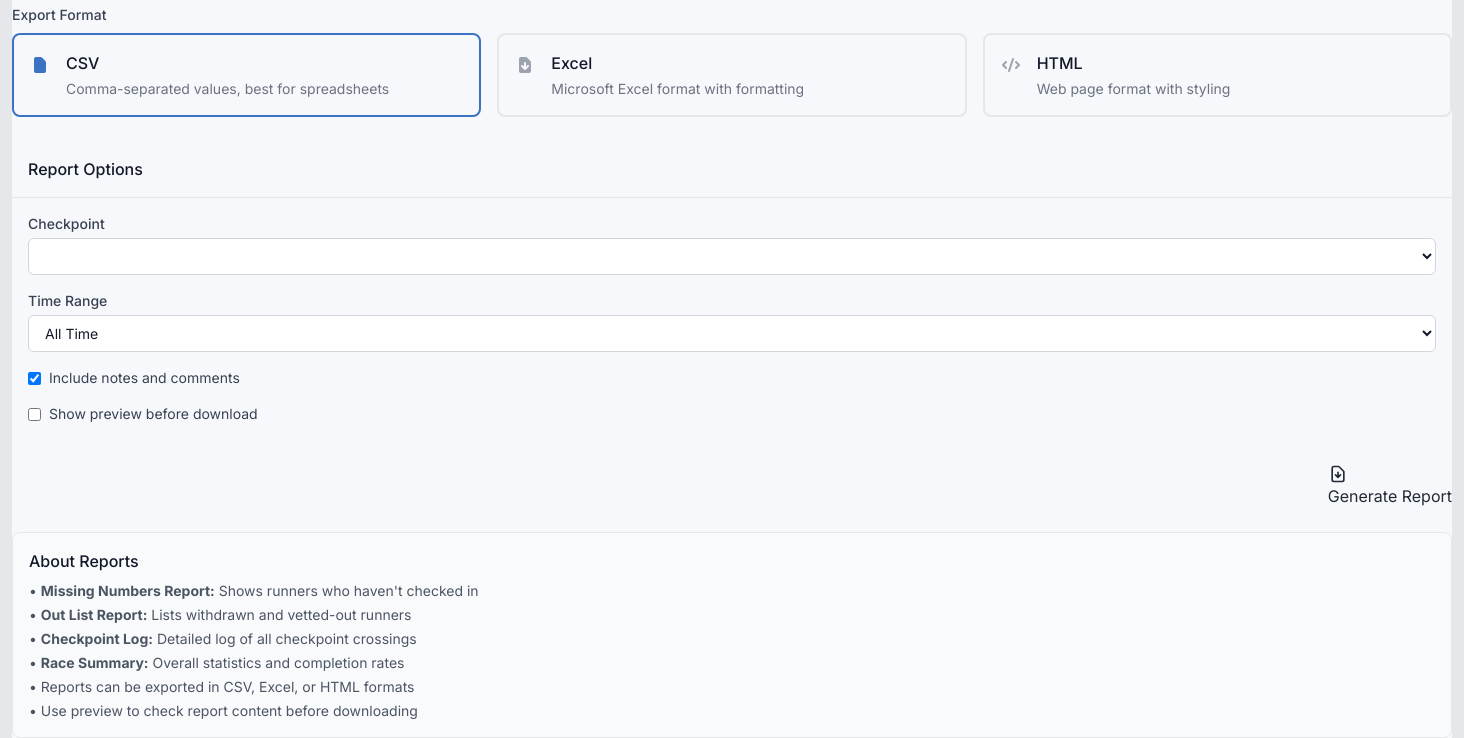
Test case: ReportsPanel › handles loading state
(page scrolled)
Click the button "Generate Report" at (1390, 486), box [1328,464,1452,508]
(page scrolled)
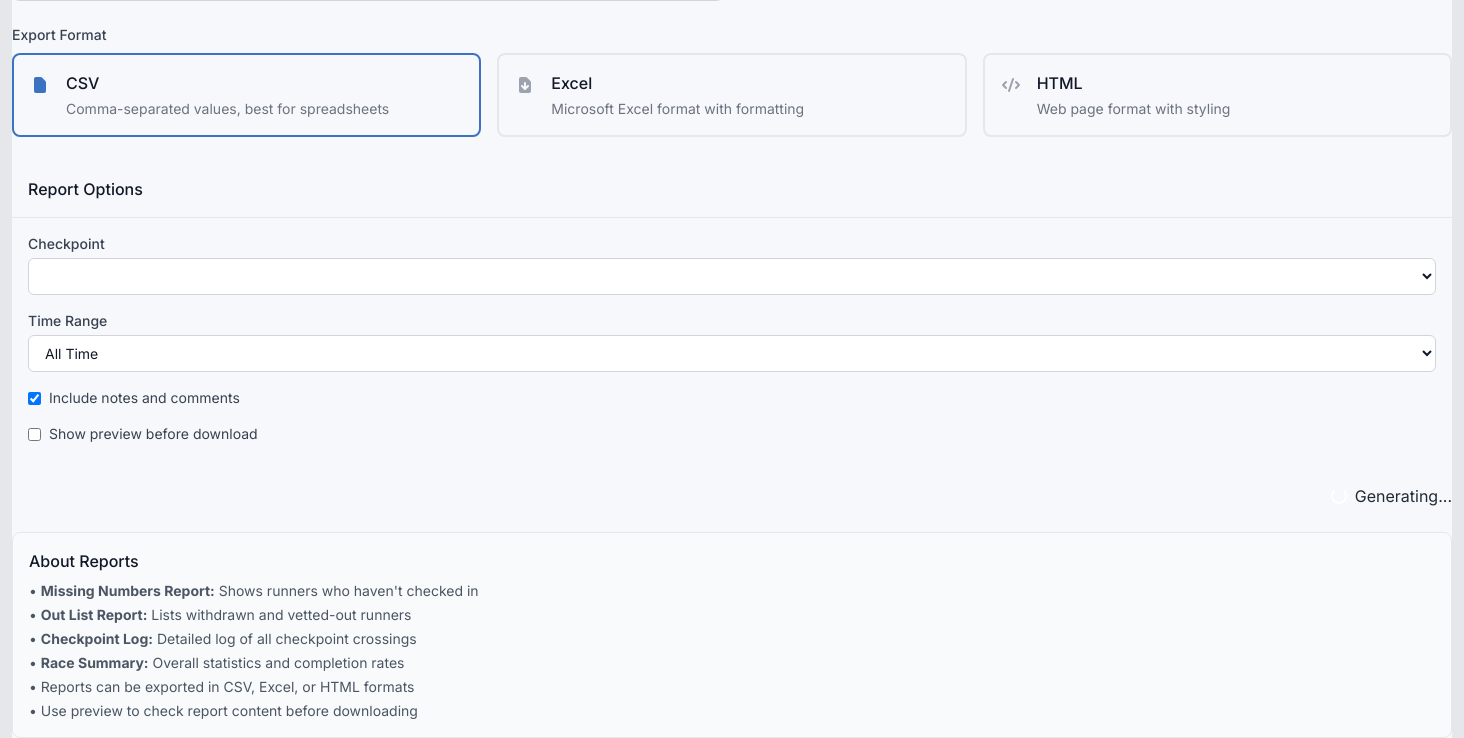
Result: the text "Generating..." is shown at [1355,484,1452,508]
